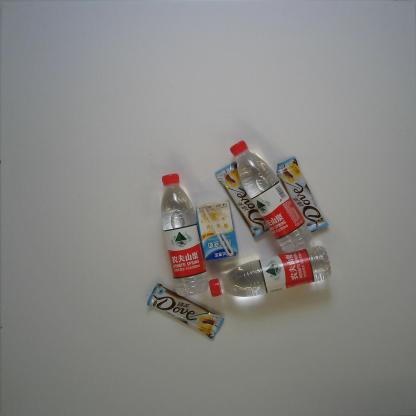Chocolate: (147, 282, 224, 341), (215, 162, 272, 240), (276, 156, 329, 233)
Drink: (229, 140, 313, 254), (209, 245, 332, 298), (161, 173, 210, 298)
Milk: (196, 200, 238, 262)
